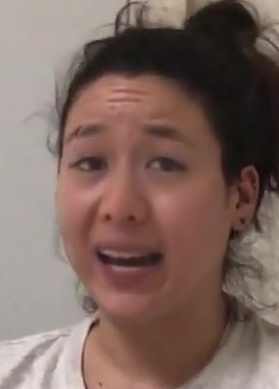eb_f: (59, 116, 197, 183)
